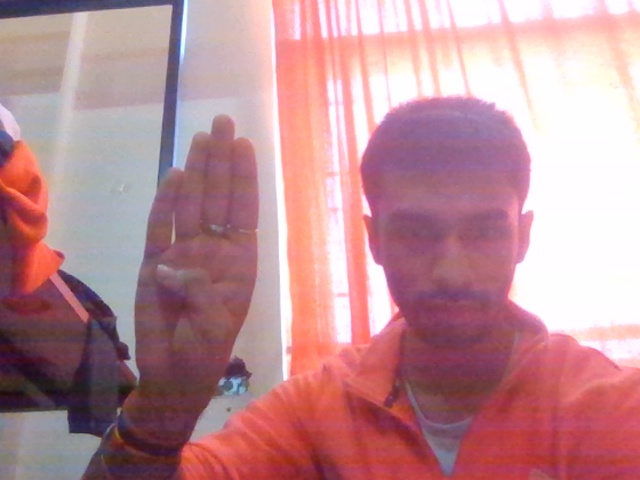B: (121, 97, 282, 427)
